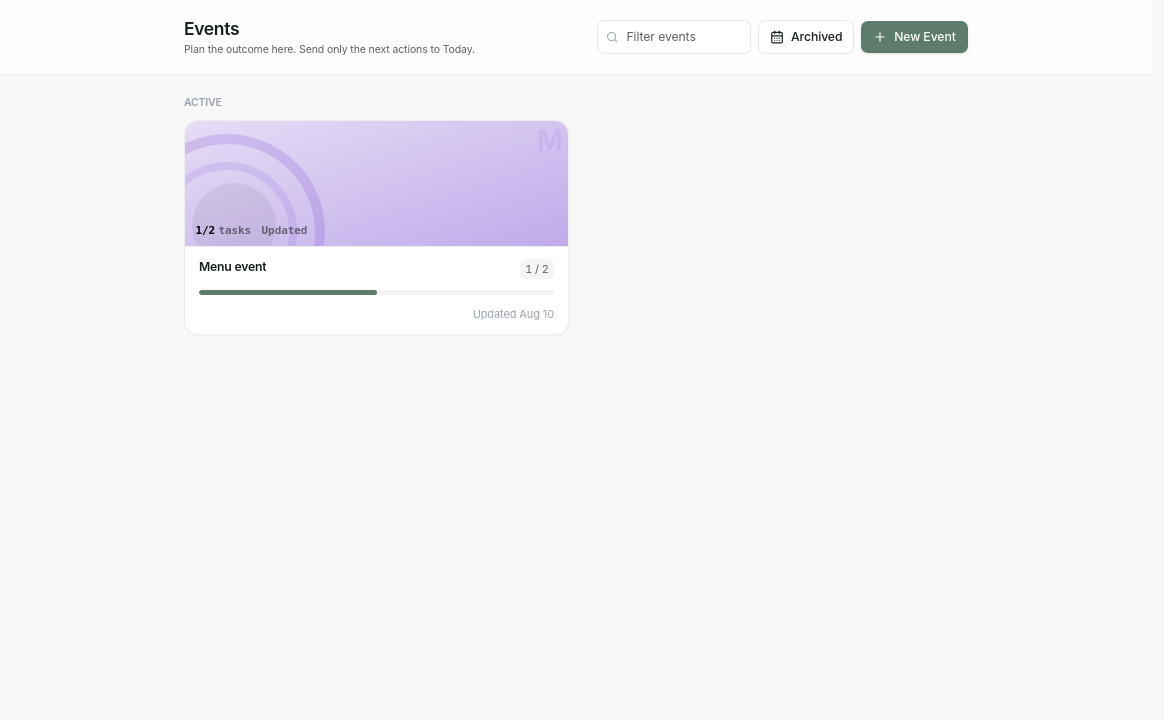
EventsView Event-first surface › ⋯ menu shows stats, offers auto layout and copies the outline
The image size is (1164, 720).
Click the button with test id "event-card-event-1".
click(376, 228)  # box [184, 120, 569, 335]
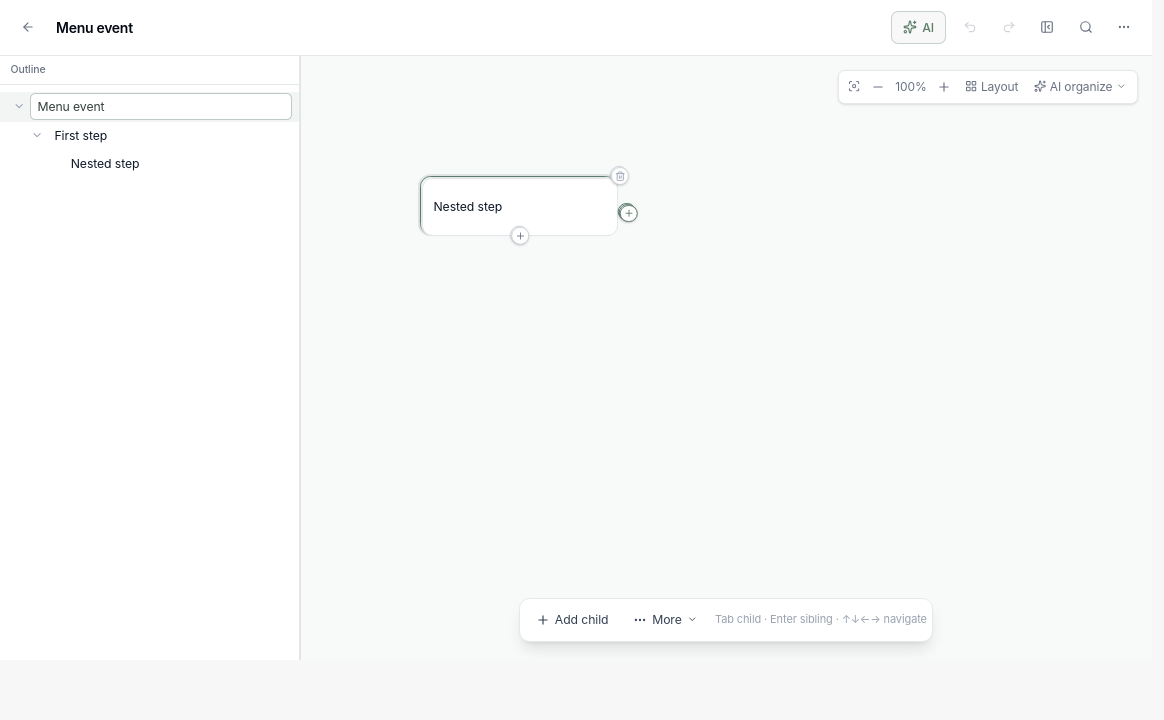
Now the element with test id "event-detail" is shown
Click the button with test id "event-more-toggle".
click(1124, 27)  # box [1110, 13, 1138, 41]
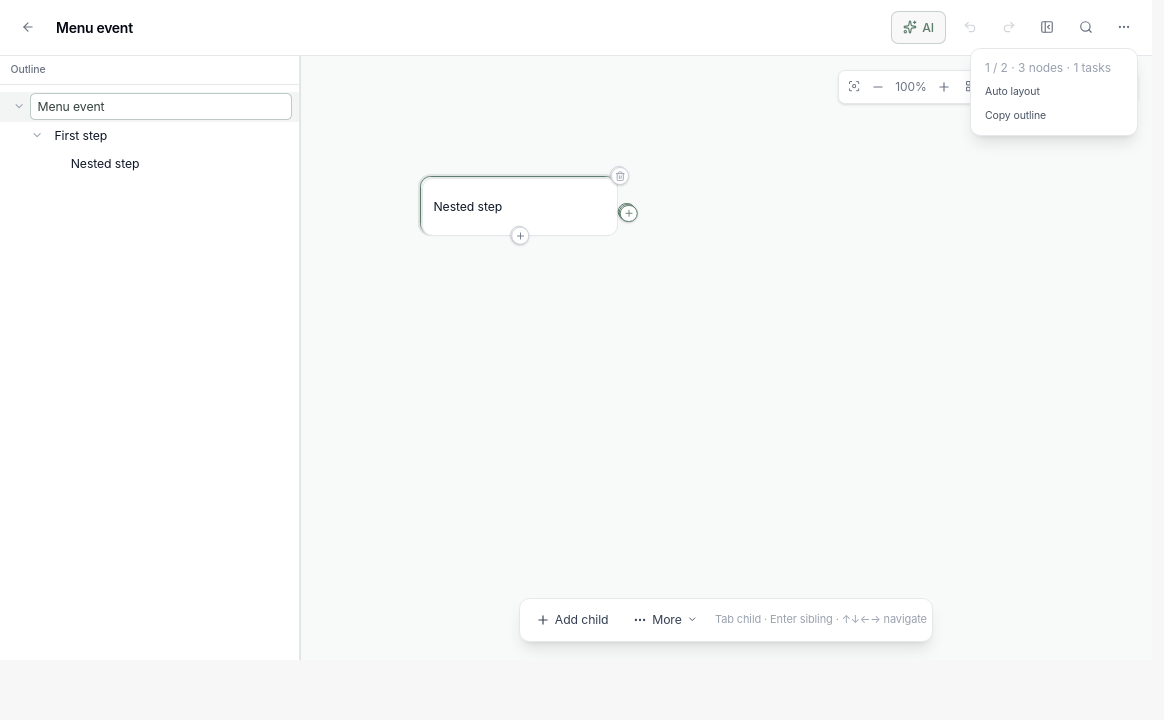
Now the element with test id "event-more-menu" shows "1 / 2", box [985, 60, 1008, 75]
Now the element with test id "event-more-menu" shows "3 nodes", box [970, 48, 1138, 136]
Now the element with test id "event-more-menu" shows "1 tasks", box [970, 48, 1138, 136]
Click the button with test id "event-more-copy-outline".
click(1054, 116)  # box [978, 104, 1130, 128]
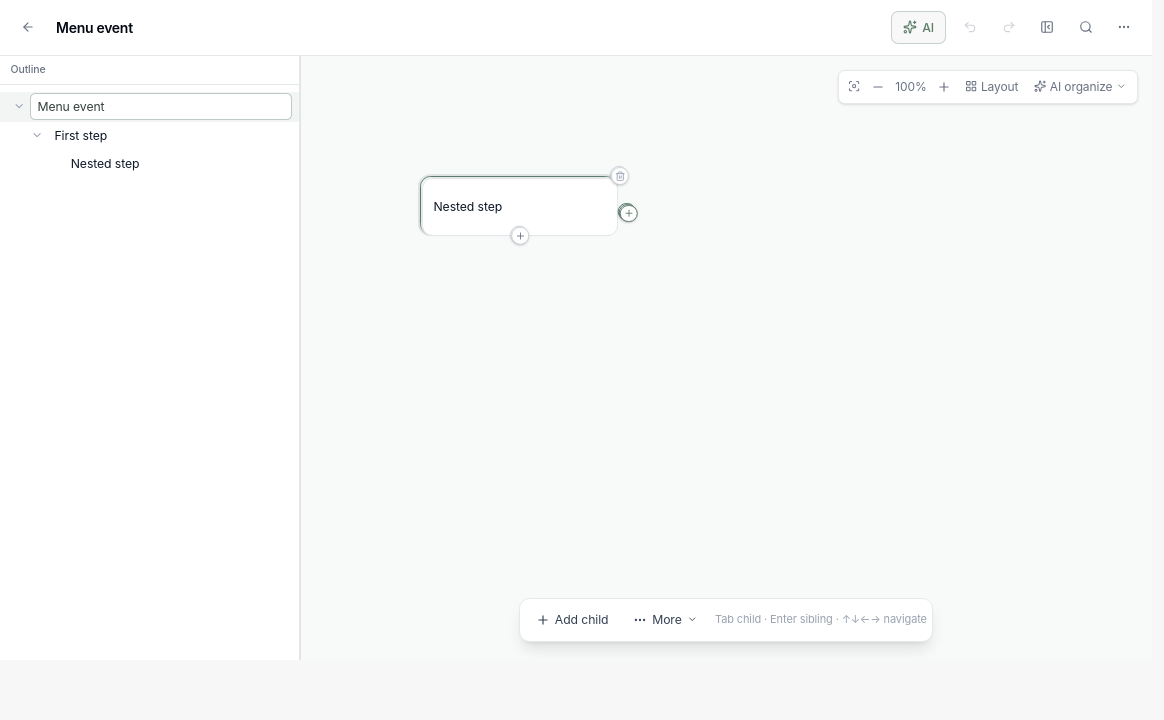
Now the element with test id "event-more-menu" is gone
